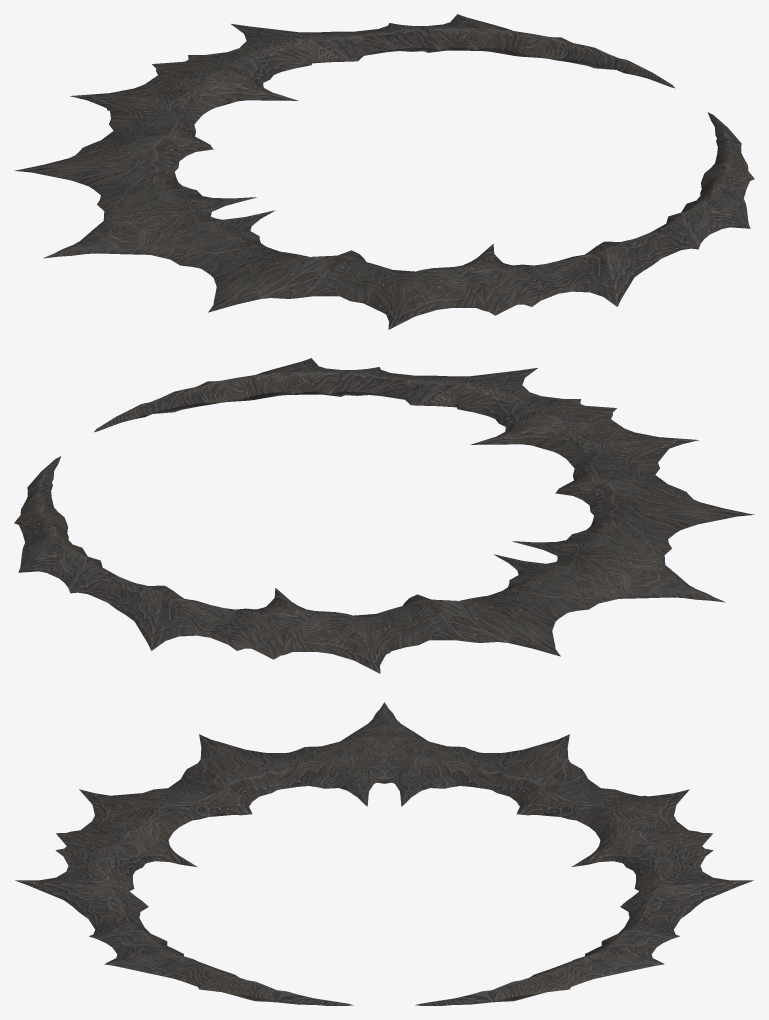
The model's file is bg_rad_kamen_floor03lowpoly_sm_jjy.obj.
3 renders of one model, top to bottom at view 1: azimuth 30°, elevation 25°; view 2: azimuth 150°, elevation 25°; view 3: azimuth 270°, elevation 25°, orthographic. The views are drawn at different scales.
Visible parts, largest first — view 1: bg_rad_kamen_floor03lowpoly_sm_jjy_0, bg_rad_kamen_floor03lowpoly_sm_jjy_1; view 2: bg_rad_kamen_floor03lowpoly_sm_jjy_0, bg_rad_kamen_floor03lowpoly_sm_jjy_1; view 3: bg_rad_kamen_floor03lowpoly_sm_jjy_1, bg_rad_kamen_floor03lowpoly_sm_jjy_0.
Boxes of the visible parts, box(x1,y1,x2,y2) form: bg_rad_kamen_floor03lowpoly_sm_jjy_0: box(14, 70, 484, 329); bg_rad_kamen_floor03lowpoly_sm_jjy_1: box(152, 14, 754, 315); bg_rad_kamen_floor03lowpoly_sm_jjy_0: box(284, 414, 754, 673); bg_rad_kamen_floor03lowpoly_sm_jjy_1: box(14, 358, 616, 659); bg_rad_kamen_floor03lowpoly_sm_jjy_1: box(15, 793, 753, 1005); bg_rad_kamen_floor03lowpoly_sm_jjy_0: box(72, 702, 696, 832).
Bounding box in the file's own units: 49.24 × 1.76 × 50.77.
Materials: 2 (2 with a texture image).
